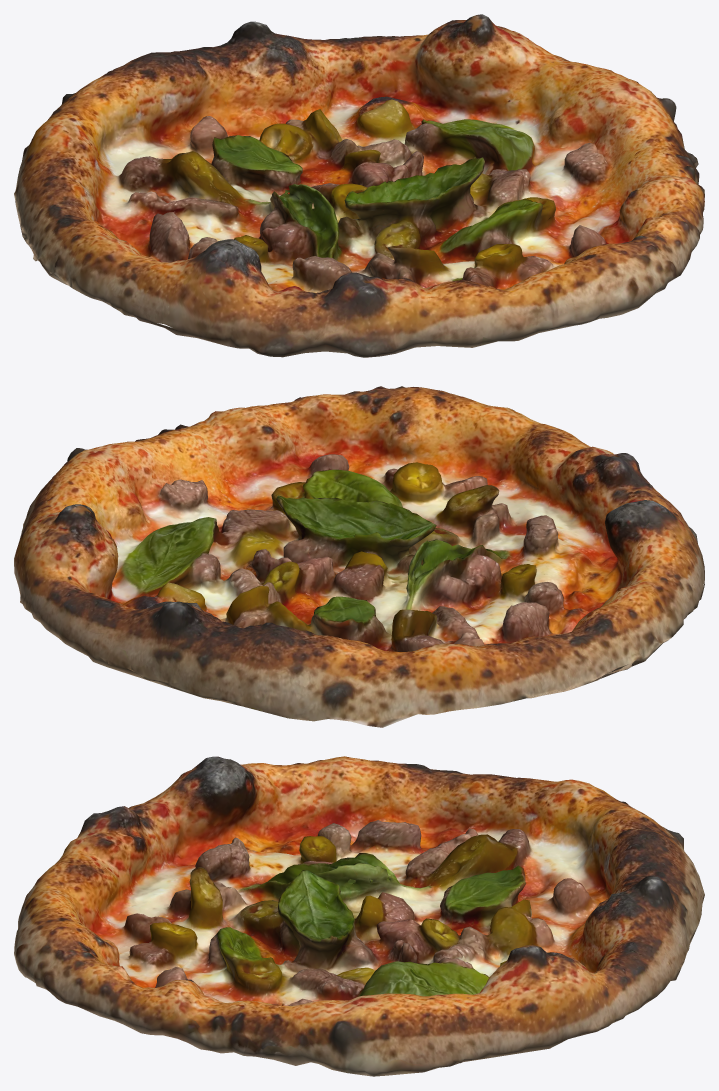
File: 686545886fa3c_diavola.glb
3 views of the same model, one above another, from view 1: azimuth 30°, elevation 25°; view 2: azimuth 150°, elevation 25°; view 3: azimuth 270°, elevation 25° (orthographic).
Size of the model in its own units: 0.9414 by 0.1487 by 0.9366.
Materials: 1 (1 with a texture image).
